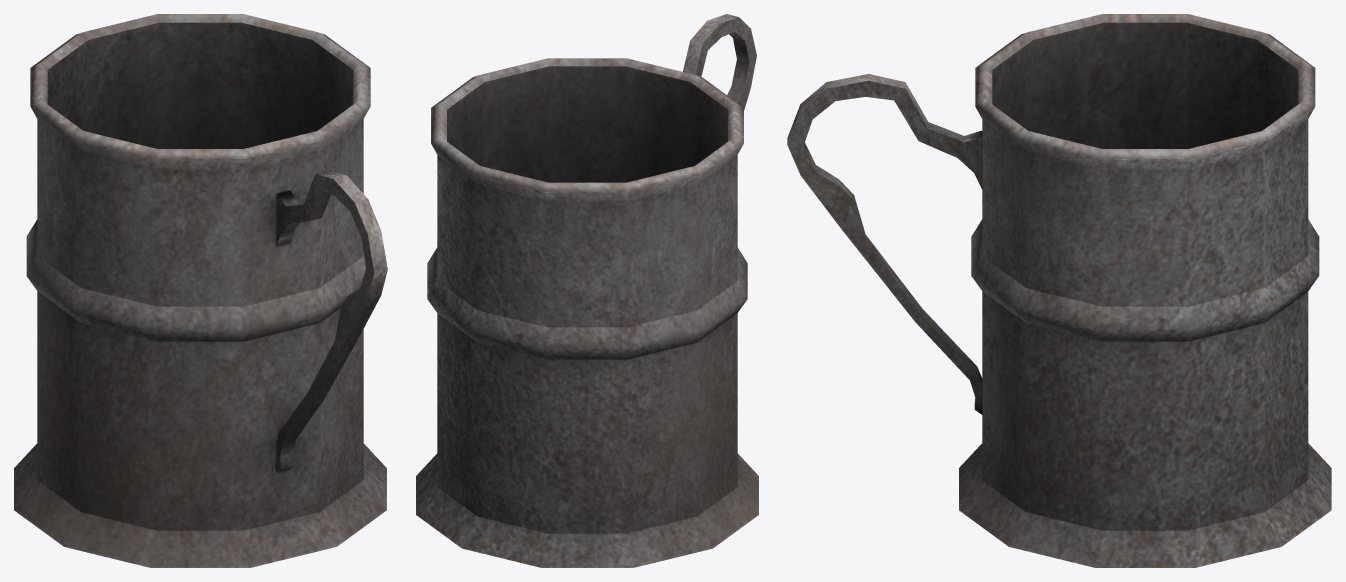
Rendered from jugIron_1.fbx.
3 renders of one model, left to right at view 1: azimuth 30°, elevation 25°; view 2: azimuth 150°, elevation 25°; view 3: azimuth 270°, elevation 25°, orthographic. The views are drawn at different scales.
Parts seen in each view (by area): view 1: jugIron; view 2: jugIron; view 3: jugIron.
Part boxes in pixels (box(x1,y1,x2,y2)): jugIron: box(14, 14, 387, 567); jugIron: box(416, 14, 758, 567); jugIron: box(787, 14, 1331, 567).
Size of the model in its own units: 0.1925 by 0.2352 by 0.2812.
1 material, 1 textured.
